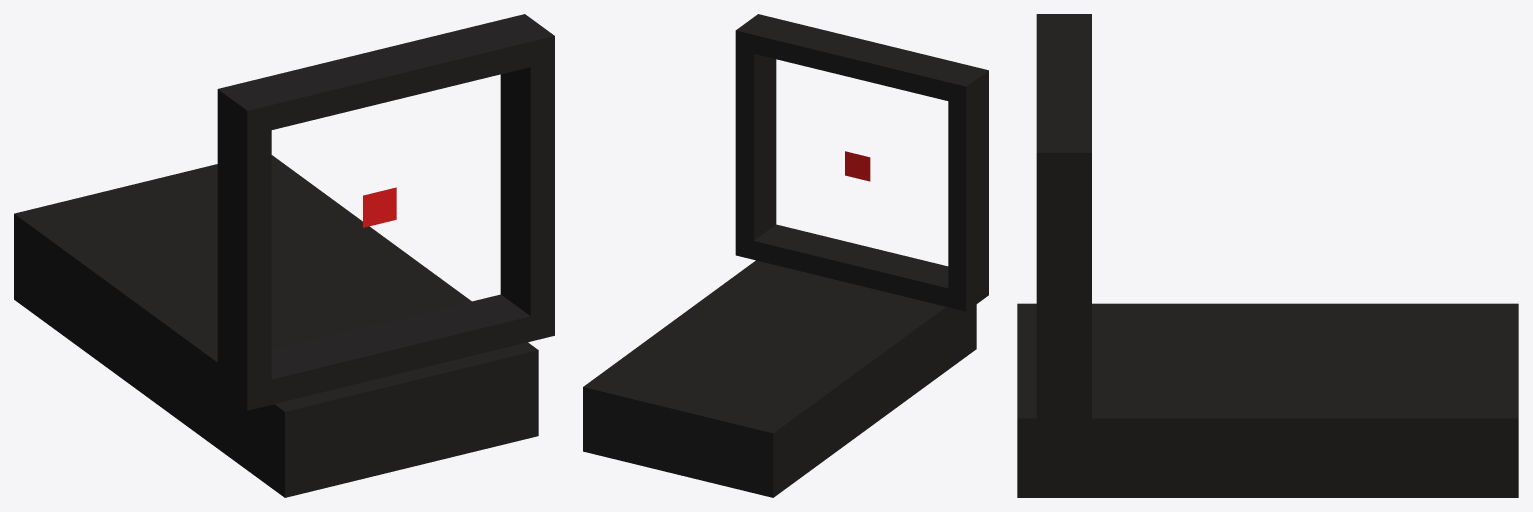
File: Sight_LaserDotPistol.FBX
3 views of the same model, side by side, from view 1: azimuth 30°, elevation 25°; view 2: azimuth 150°, elevation 25°; view 3: azimuth 270°, elevation 25° (orthographic). The views are drawn at different scales.
Parts seen in each view (by area): view 1: Pistol_LaserDotSight, Pistol_LDSight_dot; view 2: Pistol_LaserDotSight, Pistol_LDSight_dot; view 3: Pistol_LaserDotSight.
Boxes of the visible parts, x1,y1,x2,y2 form: Pistol_LaserDotSight: (14, 14, 554, 497); Pistol_LDSight_dot: (363, 187, 396, 227); Pistol_LaserDotSight: (583, 14, 988, 497); Pistol_LDSight_dot: (845, 151, 870, 181); Pistol_LaserDotSight: (1017, 14, 1518, 497).
Bounding box in the file's own units: 5.89 × 8.99 × 7.06.
